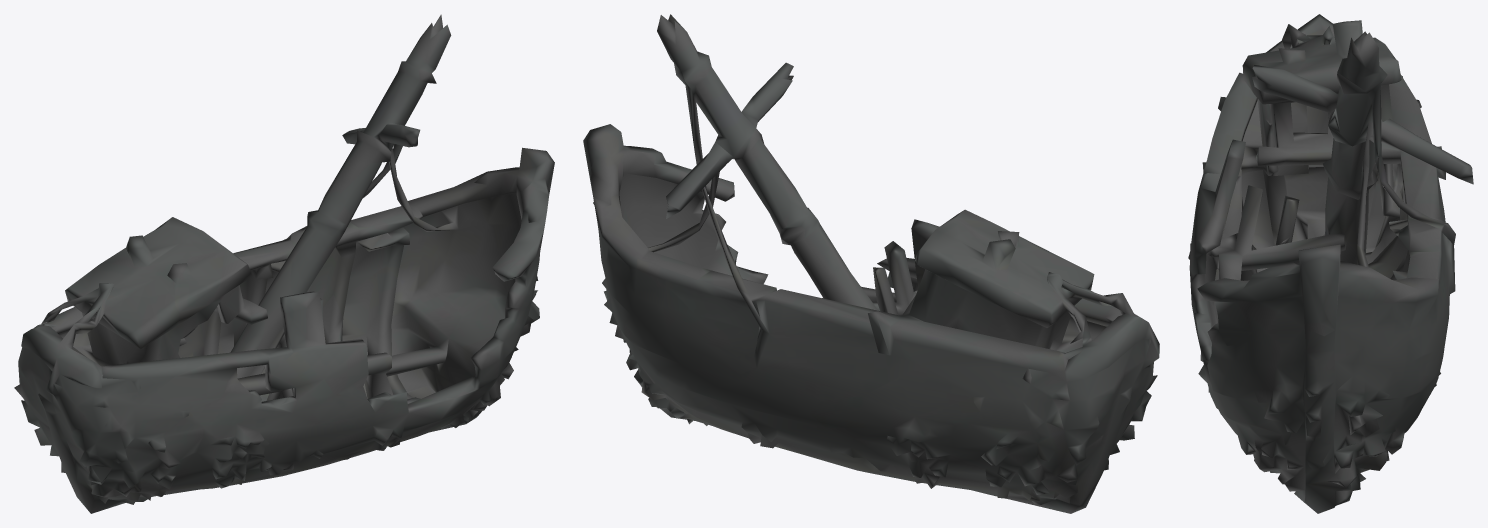
File: wreck.glb
The picture shows the model from 3 angles, left to right: view 1: azimuth 30°, elevation 25°; view 2: azimuth 150°, elevation 25°; view 3: azimuth 270°, elevation 25°; orthographic projection. The views are drawn at different scales.
Visible parts, largest first — view 1: tripo_node_41f8aa72-f418-4709-b49a-72e3182e4703; view 2: tripo_node_41f8aa72-f418-4709-b49a-72e3182e4703; view 3: tripo_node_41f8aa72-f418-4709-b49a-72e3182e4703.
Boxes of the visible parts, x1,y1,x2,y2 form: tripo_node_41f8aa72-f418-4709-b49a-72e3182e4703: [14, 14, 554, 513]; tripo_node_41f8aa72-f418-4709-b49a-72e3182e4703: [583, 14, 1159, 513]; tripo_node_41f8aa72-f418-4709-b49a-72e3182e4703: [1188, 14, 1473, 513].
Bounding box in the file's own units: 1 × 0.7216 × 0.3946.
1 material, 1 textured.
